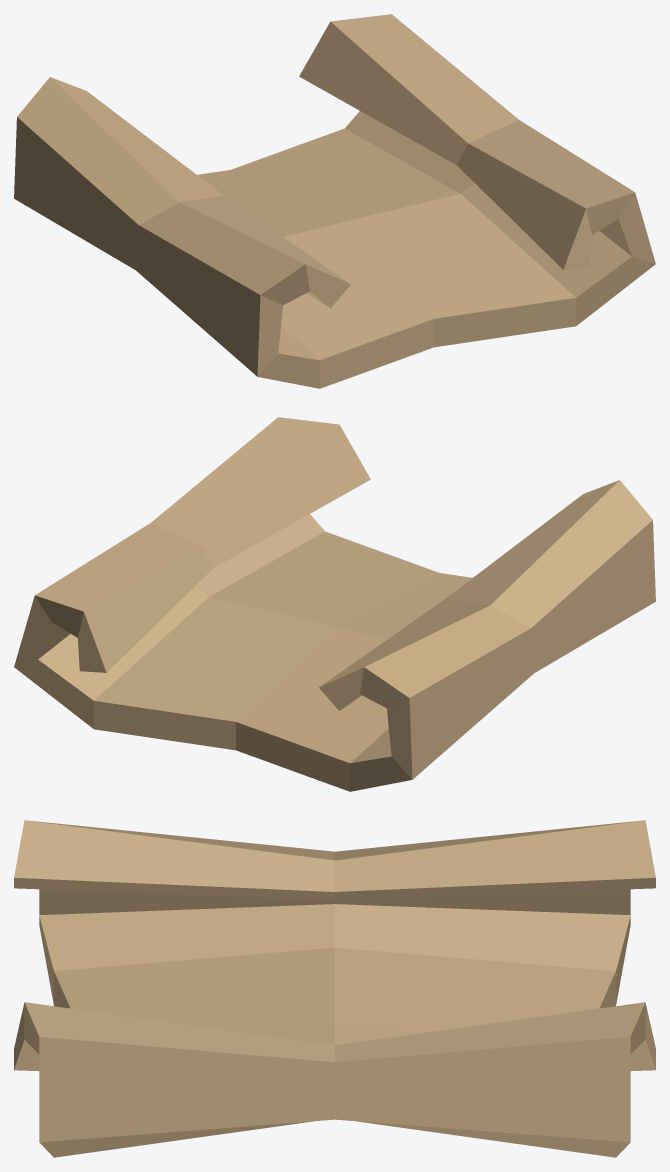
Rendered from SM_Item_Map_03.glb.
3 renders of one model, top to bottom at view 1: azimuth 30°, elevation 25°; view 2: azimuth 150°, elevation 25°; view 3: azimuth 270°, elevation 25°, orthographic. The views are drawn at different scales.
Visible parts, largest first — view 1: node_id4; view 2: node_id4; view 3: node_id4.
Boxes of the visible parts, x1=… form: node_id4: x1=14, y1=14, x2=655, y2=388; node_id4: x1=14, y1=417, x2=655, y2=791; node_id4: x1=14, y1=820, x2=655, y2=1157.
Size of the model in its own units: 0.512 by 0.1719 by 0.5882.
Materials: 1 (1 with a texture image).
